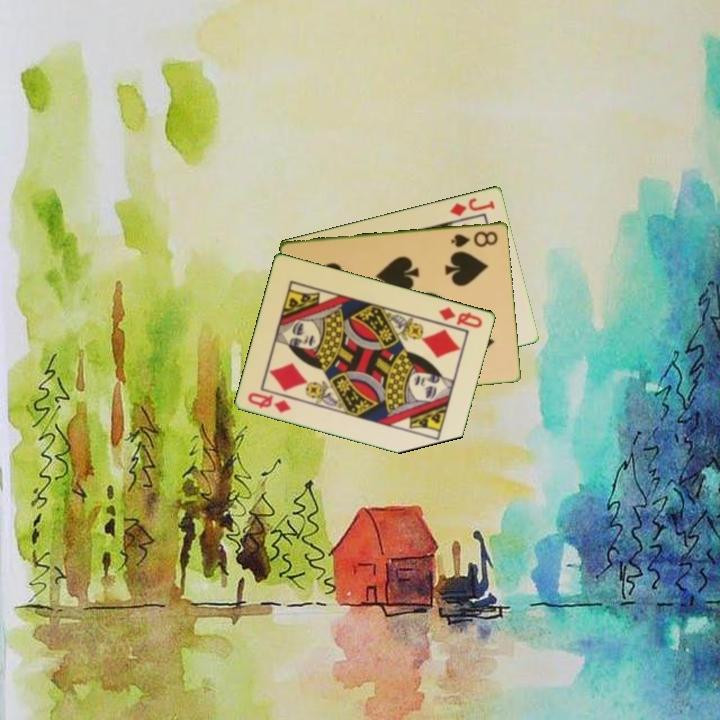8s: (448, 227, 501, 250)
Jd: (446, 194, 498, 219)
Qd: (435, 303, 486, 331), (244, 389, 294, 416)
